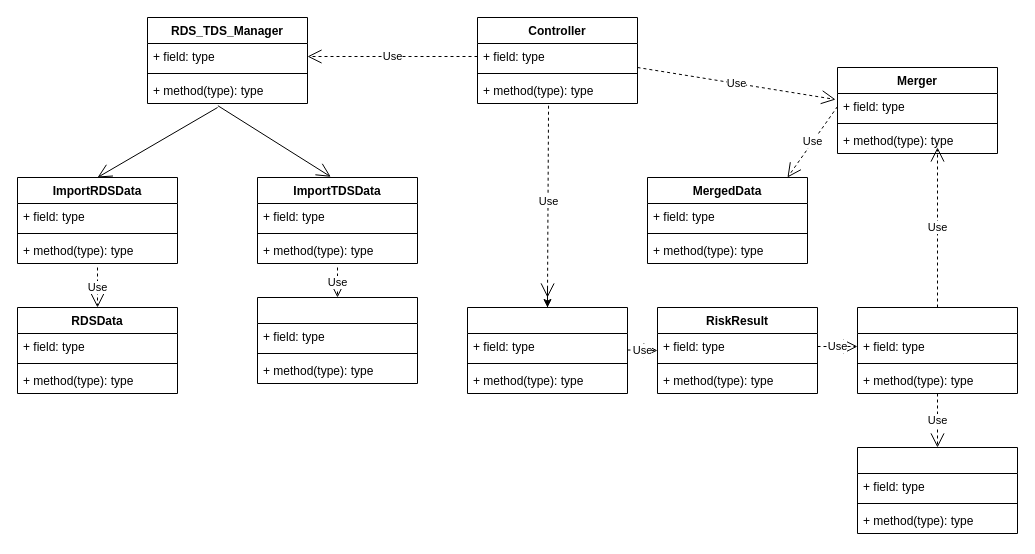
The diagram is 1035 pixels wide and 554 high, and some of its shapes have lost their labels. The shapes that lost their labels are listed below. From the top down, each one's box as (x1, y1, x2, y2) in pixels, then its label:
(256, 296, 418, 384): TDSData
(466, 306, 628, 394): ExcelReportGenerator
(856, 306, 1018, 394): Risk_Calculation
(856, 446, 1018, 534): ConfigurationParams
